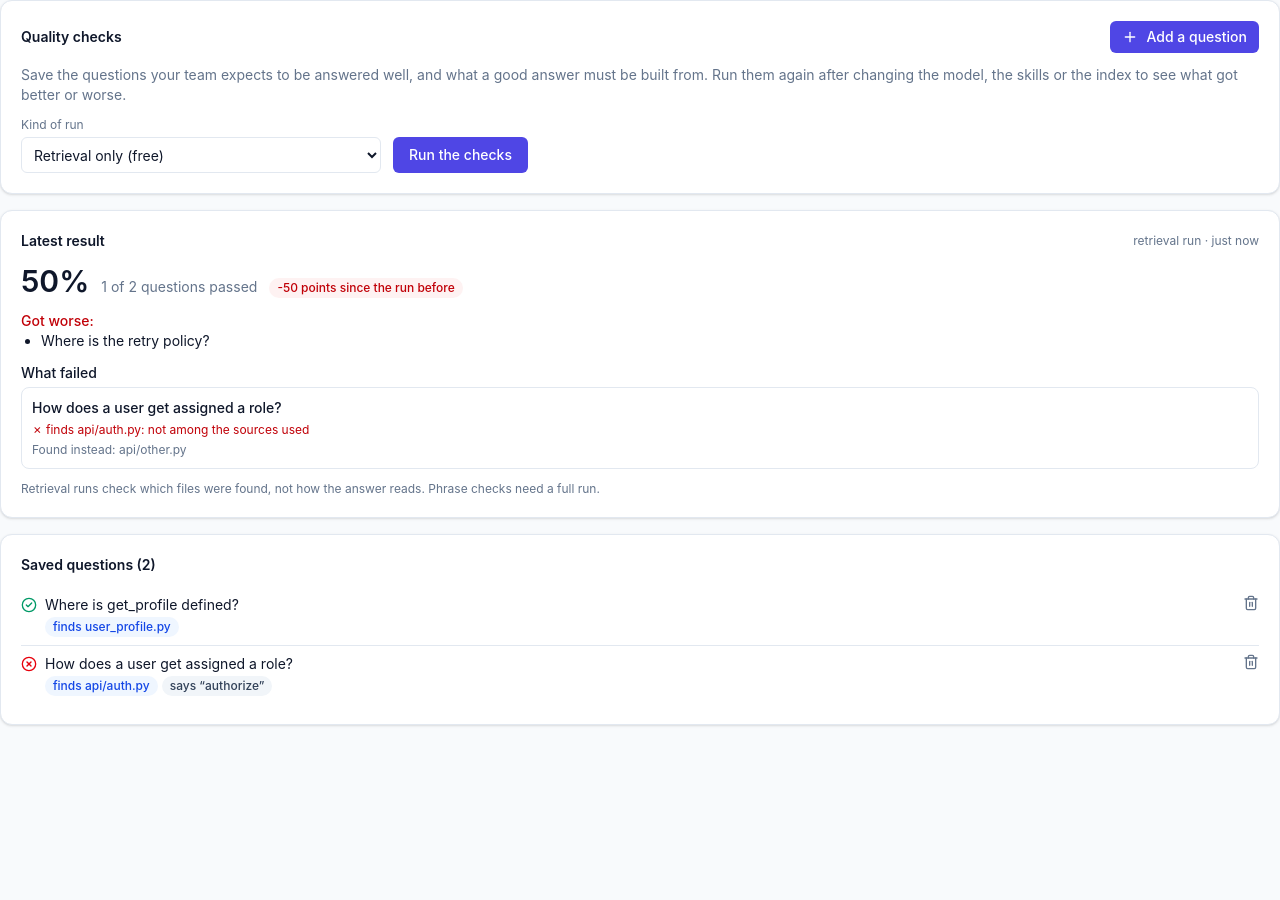
Test: Quality checks › starts a retrieval or a full run
The width and height of the screenshot is (1280, 900).
Click the button "Run the checks". click: click(460, 155)
box: [393,137,528,173]
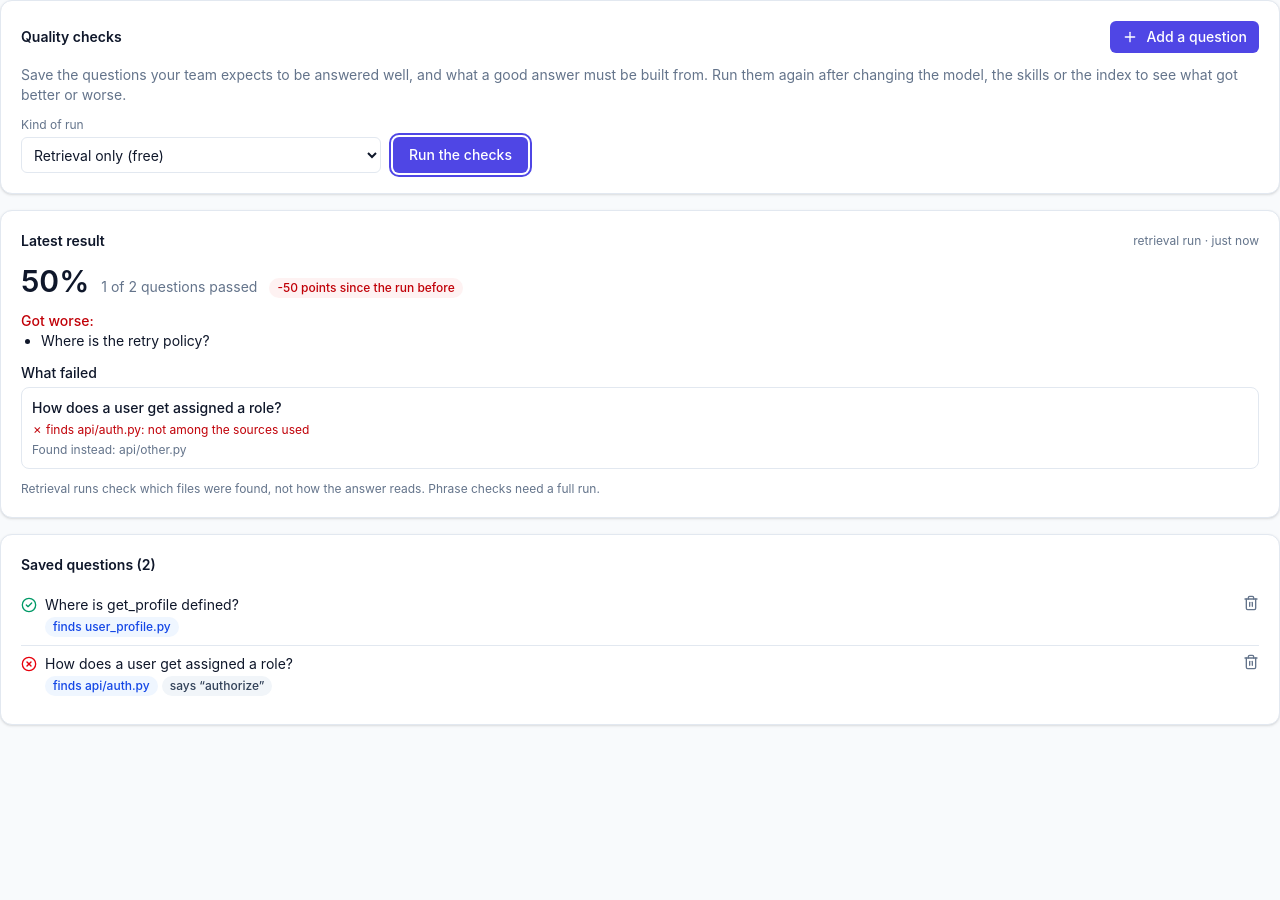
Select "Full (the model writes each answer, uses tokens)" in the dropdown labelled "Kind of run". click: (201, 155)
box: [21,137,381,173]
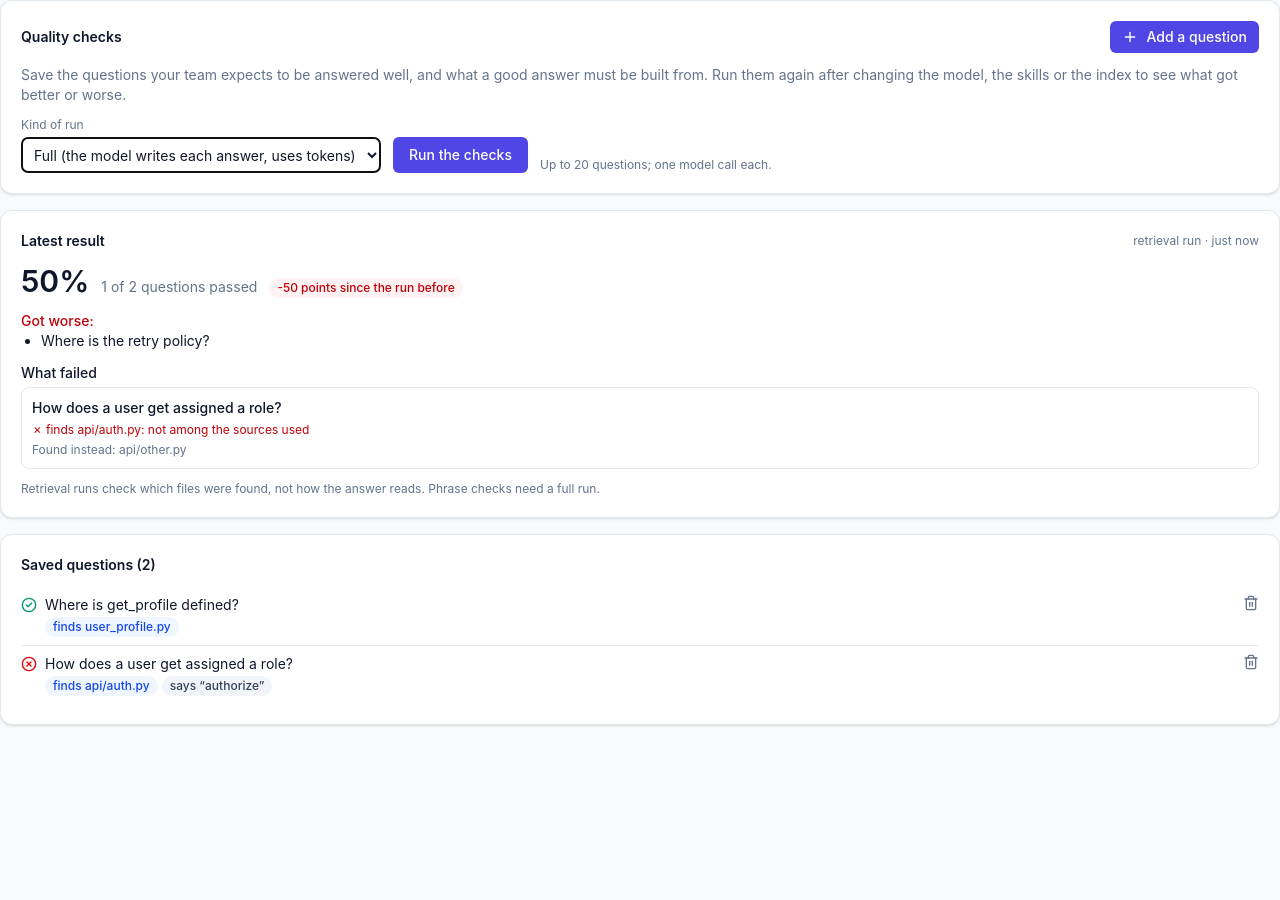
Result: the text "Up to 20 questions; one model call each." is shown at [540,157,772,173]
